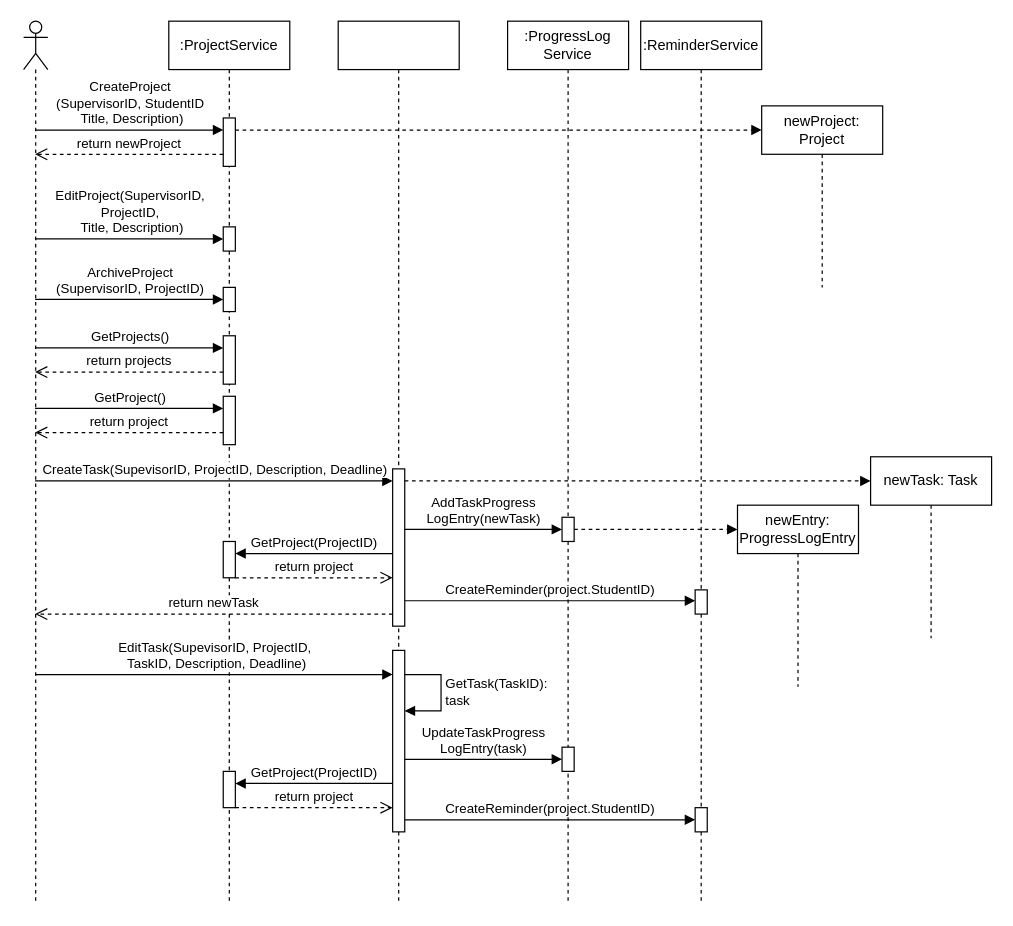
This 1013x926 diagram has some shape labels left out. The shapes that lost their labels are listed below. From the top down, each one's box as (x1, y1, x2, y2) in pixels, then its label:
(22, 20, 48, 904): User
(337, 20, 459, 904): :TaskService
